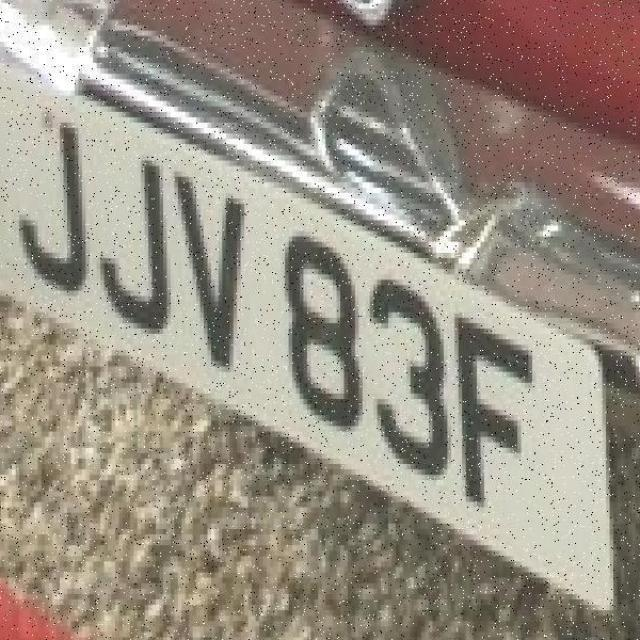license-plate: (0, 42, 640, 620), (352, 34, 353, 38)
